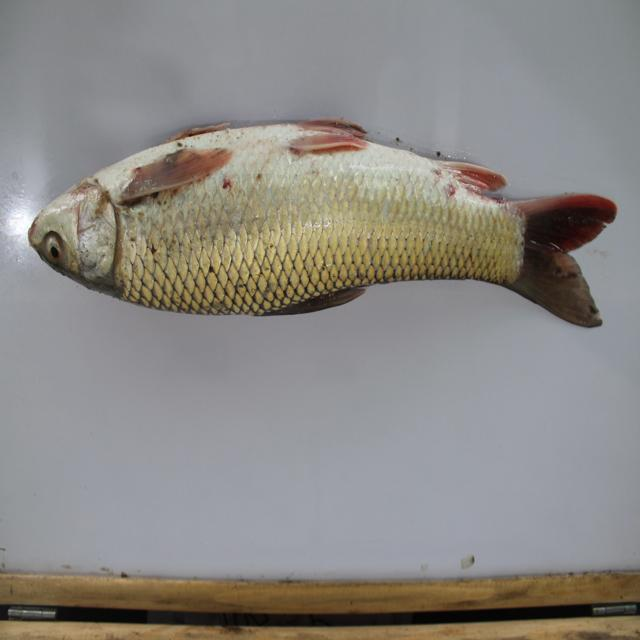Mori: (31, 119, 608, 361)
